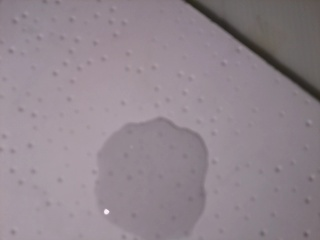Water_detected: (104, 132, 187, 226)
